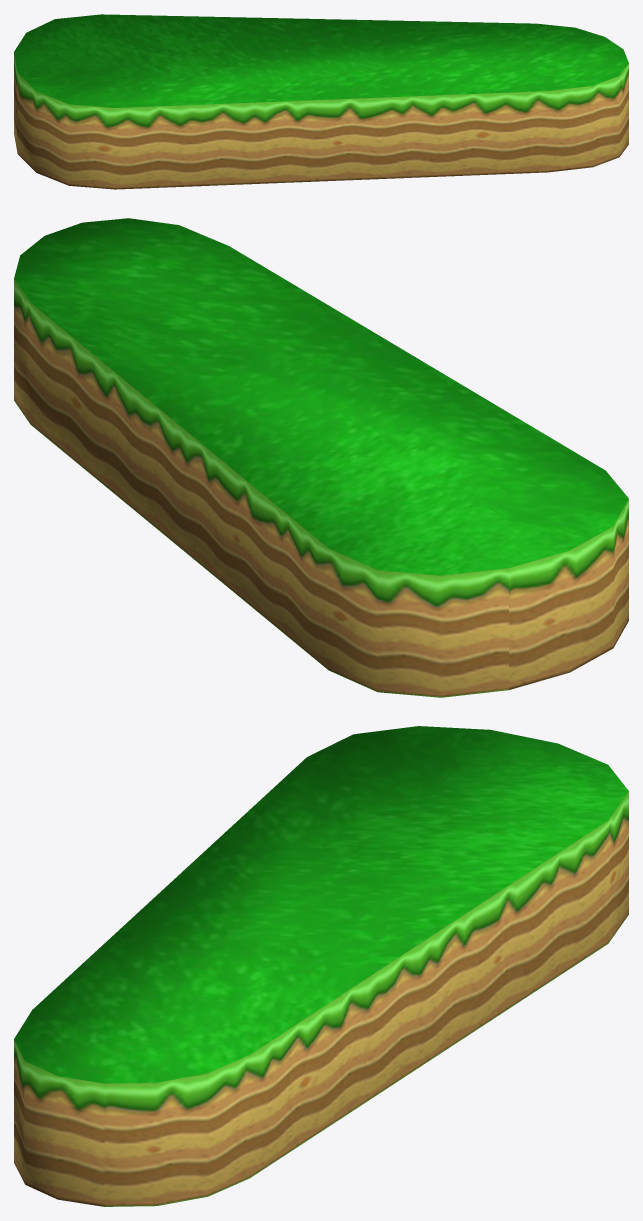
The model's file is Tunnel_Flipper.FBX.
3 views of the same model, one above another, from view 1: azimuth 30°, elevation 25°; view 2: azimuth 150°, elevation 25°; view 3: azimuth 270°, elevation 25° (orthographic). The views are drawn at different scales.
Visible parts, largest first — view 1: Line023; view 2: Line023; view 3: Line023.
Part boxes in pixels (<box>): Line023: <box>14,14,628,189</box>; Line023: <box>14,218,628,697</box>; Line023: <box>14,726,628,1206</box>.
Bounding box in the file's own units: 3.11 × 0.5 × 2.26.
Materials: 1 (1 with a texture image).
